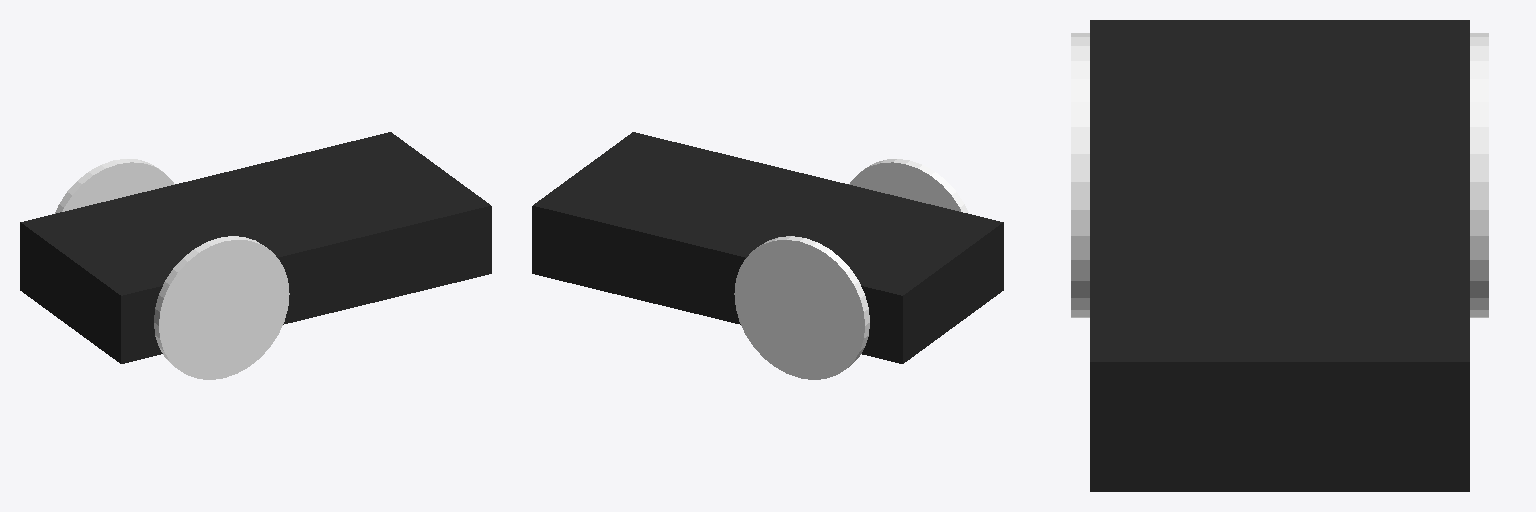
URDF robot description (maze_bot):
<robot name="maze_bot">

  <!-- 
    - take a look into inertia_calculations.txt file
    Inertia Values https://github.com/RobotnikAutomation/rb1_base_common/issues/1
-   Get the inertia tensor 
-   Scale 
-   Divide by the volume
-   Divide by scale*2 (scale -sqaurred)
-   multiply with  mass you wantto give
Thats why we use xacros

 -->

    <link name="base_footprint"/>
    <link name="base">
      <inertial>
        <mass value="2" />
        <origin xyz="0 0 0.1" rpy="0 0 0" />
        <inertia ixx="0.00355" iyy="0.01265" izz="0.013832" ixy="0.0" ixz="0.0" iyz="0.0" />
      </inertial>

      <visual>
        <geometry>
            <box size=".85 0.4 0.15"/>
        </geometry>
        <material name="gray">
          <color rgba=".2 .2 .2 1" />
        </material>
      </visual>
  
      <collision>
        <geometry>
          <box size=".85 0.4 0.1"/>
      </geometry>
        <contact_coefficients mu="1" mu2="1" kp="1e+13.0" kd="1.0"/>
      </collision>


    </link>
   <joint name="base_joint" type="fixed">
      <parent link="base_footprint"/>
      <child link="base"/>
      <origin rpy="0 0 0" xyz="0 0 0"/>
    </joint>


 <link name="wheel_right">
    <inertial>
      <mass value="0.75"/>
      <inertia ixx="0.001444223" iyy="0.00280875" izz="0.001444223" ixy="0.0" ixz="0.0" iyz="0.0"/>
      <origin/>
    </inertial>
  
      <visual>
        
        <geometry>
            <cylinder radius=".15" length="0.02"/>
        </geometry>

        <material name="white">
          <color rgba="1 1 1 1"/>
        </material>
      </visual>
  
      <collision>
        <geometry>
            <cylinder radius=".15" length="0.02"/>
        </geometry>
        <contact_coefficients mu="0" kp="1000.0" kd="1.0"/>
      </collision>

    </link>
  
    <joint name="wheel_right_joint" type="continuous">
      <origin xyz="-0.2 0.21 0.0  " rpy="1.57 0.0 0.0"/>
      <parent link="base"/>
      <child link="wheel_right"/>
      <axis xyz="0.0 -1.0 0"/>
    </joint>
  
    <link name="wheel_left">
      <inertial>
        <mass value="0.75"/>
        <inertia ixx="0.001444223" iyy="0.00280875" izz="0.001444223" ixy="0.0" ixz="0.0" iyz="0.0" />
        <origin/>
      </inertial>
  
      <visual>
        
        <geometry>
            <cylinder radius=".15" length="0.02"/>
        </geometry>
        
        <material name="white">
          <color rgba="1 1 1 1"/>
        </material>
      </visual>
  
      <collision>
        <geometry>
            <cylinder radius=".15" length="0.02"/>
        </geometry>
        <contact_coefficients mu="0" kp="1000.0" kd="1.0"/>
      </collision>
    </link>
  
    <joint name="wheel_left_joint" type="continuous">
      <origin xyz="-0.2 -0.21 0.0  " rpy="1.57 0.0 0.0"/>
      <parent link="base"/>
      <child link="wheel_left"/>
      <axis xyz="0.0 1 0"/>
  
    </joint>
  
  
    <link name="caster">

      <inertial>
        <mass value="0.75"/>
        <inertia ixx="0.0001295" iyy="0.0001295" izz="0.000199322" ixy="0.0" ixz="0.0" iyz="0.0" />
        <origin/>
      </inertial>
  
      <visual>
        <geometry>
         <sphere radius=".06"/>
      </geometry>
        <material name="black" />
      </visual>
  
      <collision>
        <geometry>
          <sphere radius=".06"/>
      </geometry>
        <contact_coefficients mu="0" kp="1000.0" kd="1.0"/>
      </collision>
    </link>
  
    <joint name="caster_joint" type="continuous">
      <origin xyz="0.2 -0.007 -0.08" rpy="0.0 0.0 0.0"/>
      <axis xyz="0 0 1" />
      <parent link="base"/>
      <child link="caster"/>
    </joint> 

</robot>
  

--- Facts derived from the render (not from the file) ---
Views: 3 orthographic renders of the robot side by side, from view 1: azimuth 30°, elevation 25°; view 2: azimuth 150°, elevation 25°; view 3: azimuth 270°, elevation 25°.
Model maze_bot with 5 links and 4 joints (3 continuous, 1 fixed), rooted at base_footprint, posed all joints at 0.
Links seen in each view (by area): view 1: base, wheel_left, wheel_right; view 2: base, wheel_right, wheel_left; view 3: base, wheel_right, wheel_left.
Boxes of the visible links, box(x1,y1,x2,y2) form: base: box(20, 132, 491, 363); wheel_left: box(154, 236, 289, 379); wheel_right: box(55, 159, 174, 213); base: box(532, 132, 1003, 363); wheel_right: box(734, 236, 869, 379); wheel_left: box(849, 159, 968, 213); base: box(1090, 20, 1469, 491); wheel_right: box(1470, 33, 1488, 317); wheel_left: box(1071, 33, 1089, 317).
Bounding box of the posed robot: 0.85 × 0.4402 × 0.3 m (x, y, z).
Geometry: primitives only (box / cylinder / sphere), no mesh files.